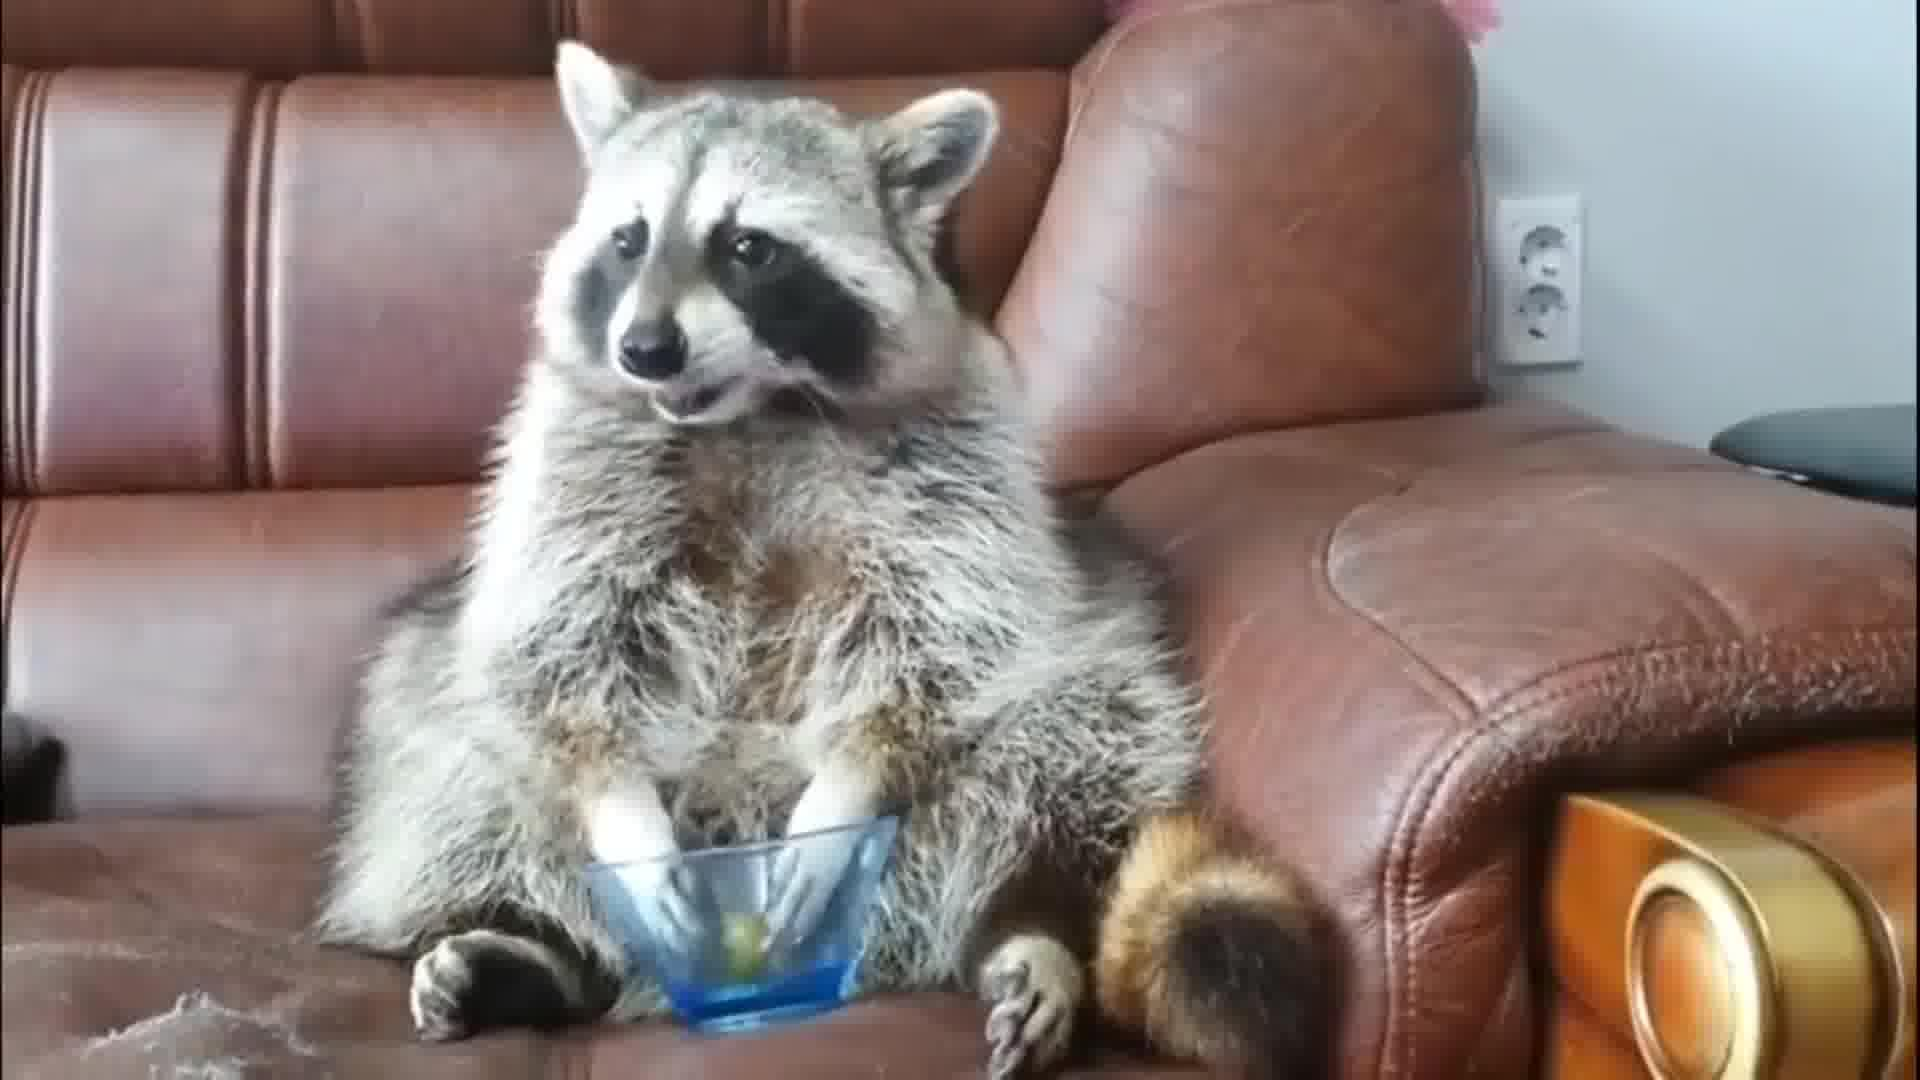raccoon: (296, 19, 1364, 1080)
